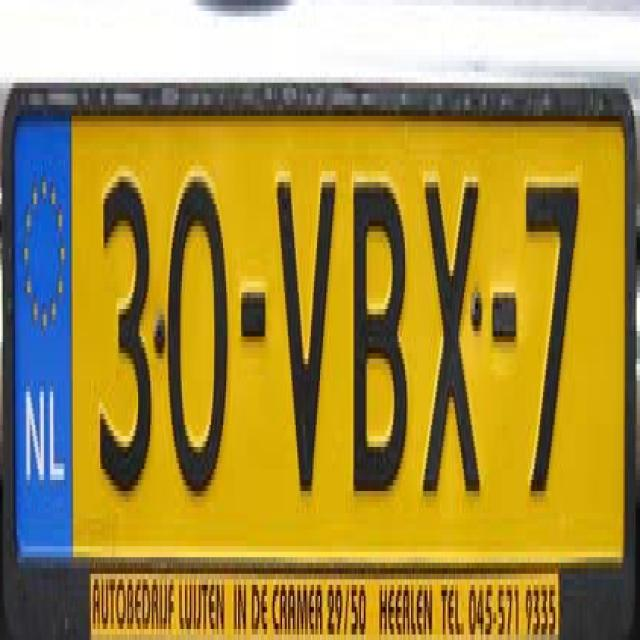EU: (5, 102, 638, 634)
Pays-Bas: (15, 121, 75, 566)
